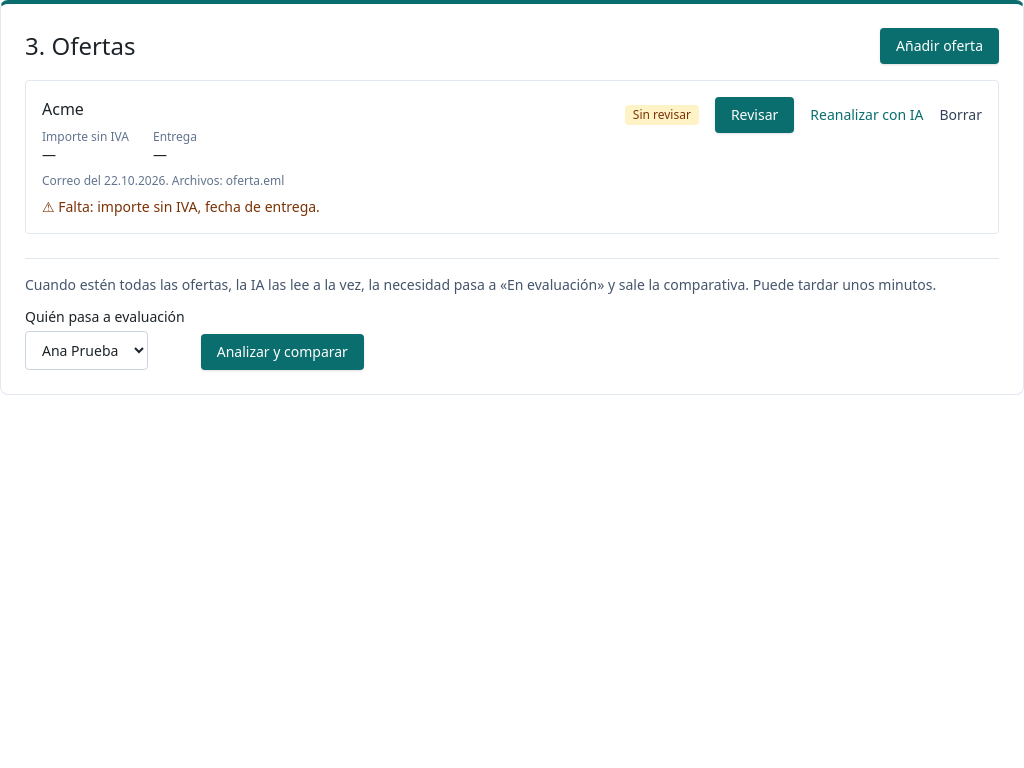
SeccionOfertas › un error de la API en una línea dice qué línea y qué dato revisar
This screenshot has width=1024, height=768.
Click the button with aria-label "Revisar la oferta de Acme": (755, 115) x1=715 y1=97 x2=794 y2=133
(page scrolled)
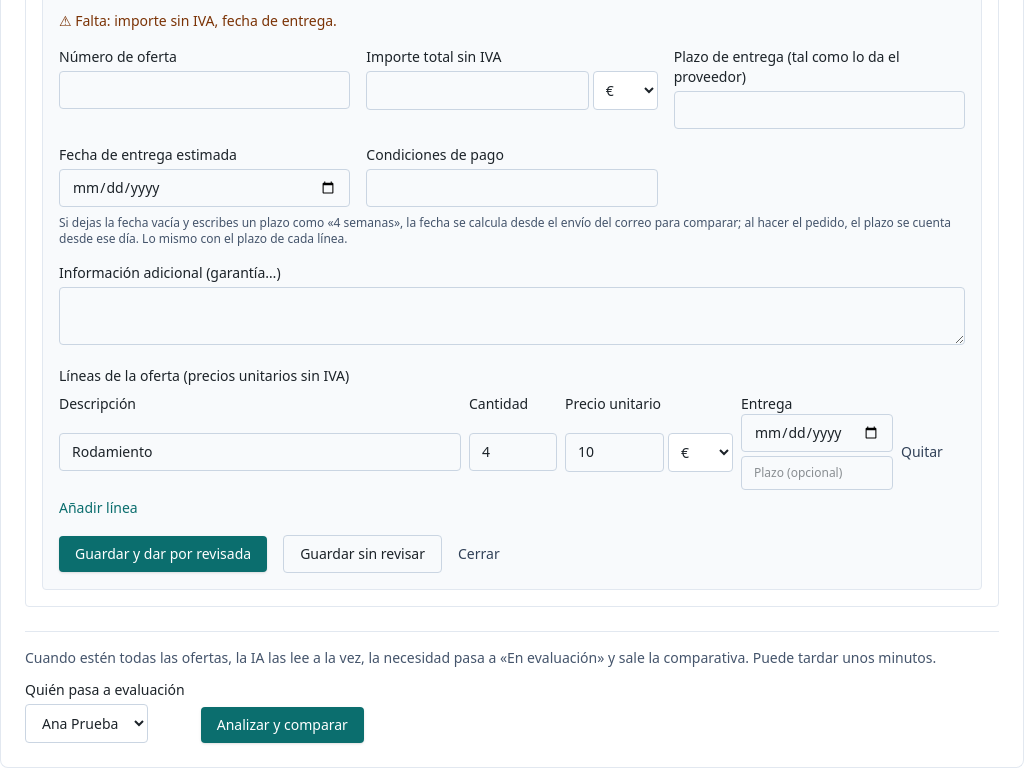
Click the button "Guardar sin revisar": (363, 554) x1=283 y1=535 x2=442 y2=573
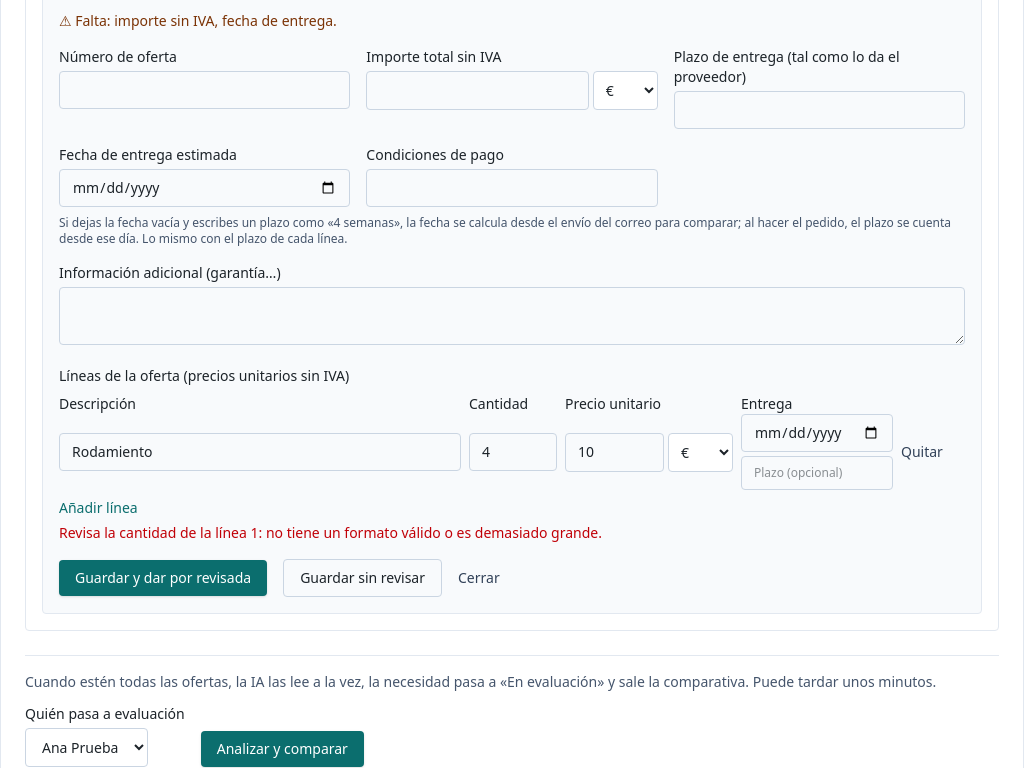
Result: the text "Revisa la cantidad de la línea 1" is shown at x1=59 y1=523 x2=602 y2=542
